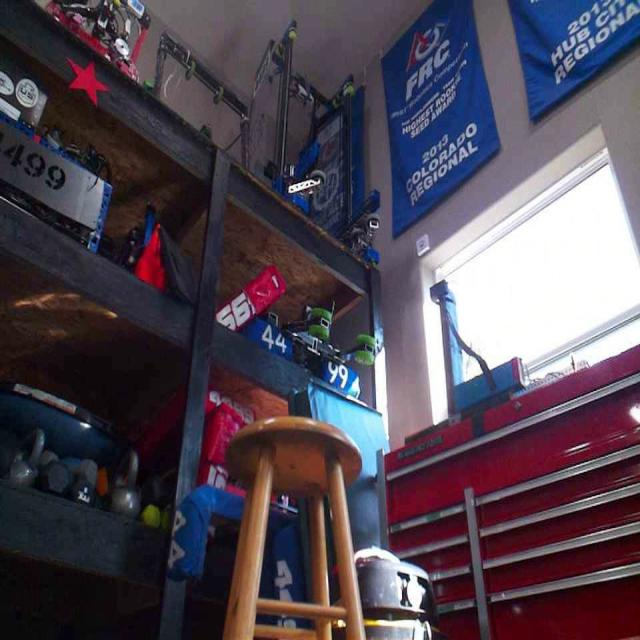star_red: (65, 56, 108, 104)
